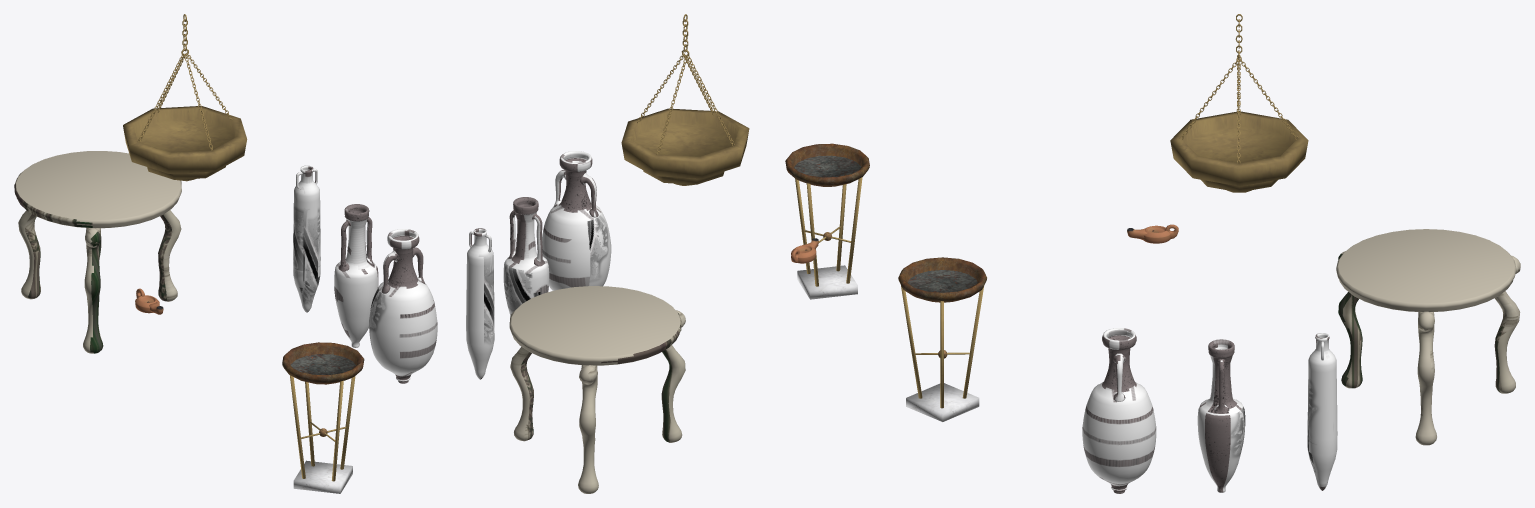
File: forniture.fbx
The picture shows the model from 3 angles, left to right: view 1: azimuth 30°, elevation 25°; view 2: azimuth 150°, elevation 25°; view 3: azimuth 270°, elevation 25°; orthographic projection. The views are drawn at different scales.
Parts seen in each view (by area): view 1: mensa01_4, lux02_8, amphora03_3, lux01_7, amphora02_1, amphora01_0, lucerna_6; view 2: mensa01_4, lux02_8, amphora03_3, lux01_7, amphora02_1, amphora01_0, lucerna_6; view 3: mensa01_4, lux02_8, amphora03_3, lux01_7, amphora02_1, amphora01_0, lucerna_6.
Boxes of the visible parts, <box> form: mensa01_4: <box>14,151,181,353</box>; lux02_8: <box>123,14,247,181</box>; amphora03_3: <box>369,229,437,383</box>; lux01_7: <box>282,342,364,493</box>; amphora02_1: <box>334,204,378,347</box>; amphora01_0: <box>293,165,320,312</box>; lucerna_6: <box>135,288,163,314</box>; mensa01_4: <box>509,286,685,493</box>; lux02_8: <box>621,14,749,185</box>; amphora03_3: <box>542,151,611,290</box>; lux01_7: <box>785,143,869,299</box>; amphora02_1: <box>503,197,549,315</box>; amphora01_0: <box>466,228,494,379</box>; lucerna_6: <box>791,238,818,263</box>; mensa01_4: <box>1336,229,1520,445</box>; lux02_8: <box>1170,14,1308,192</box>; amphora03_3: <box>1082,328,1156,493</box>; lux01_7: <box>898,257,986,421</box>; amphora02_1: <box>1197,339,1245,492</box>; amphora01_0: <box>1307,333,1337,490</box>; lucerna_6: <box>1127,224,1178,243</box>.
Bounding box in the file's own units: 221 × 277 × 398.
